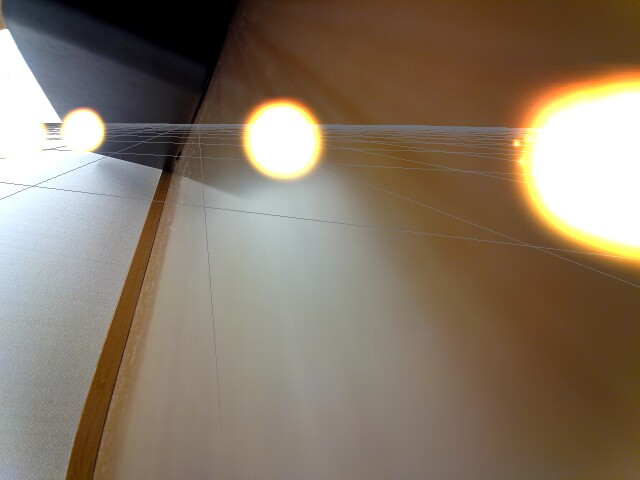firebig: (500, 39, 640, 299)
